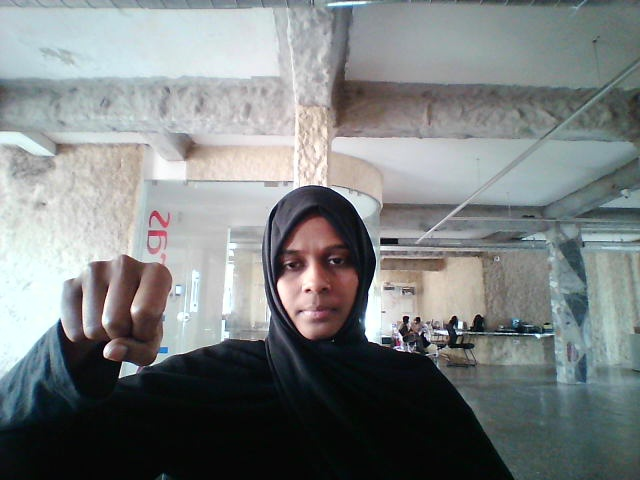YES: (39, 250, 204, 381)
